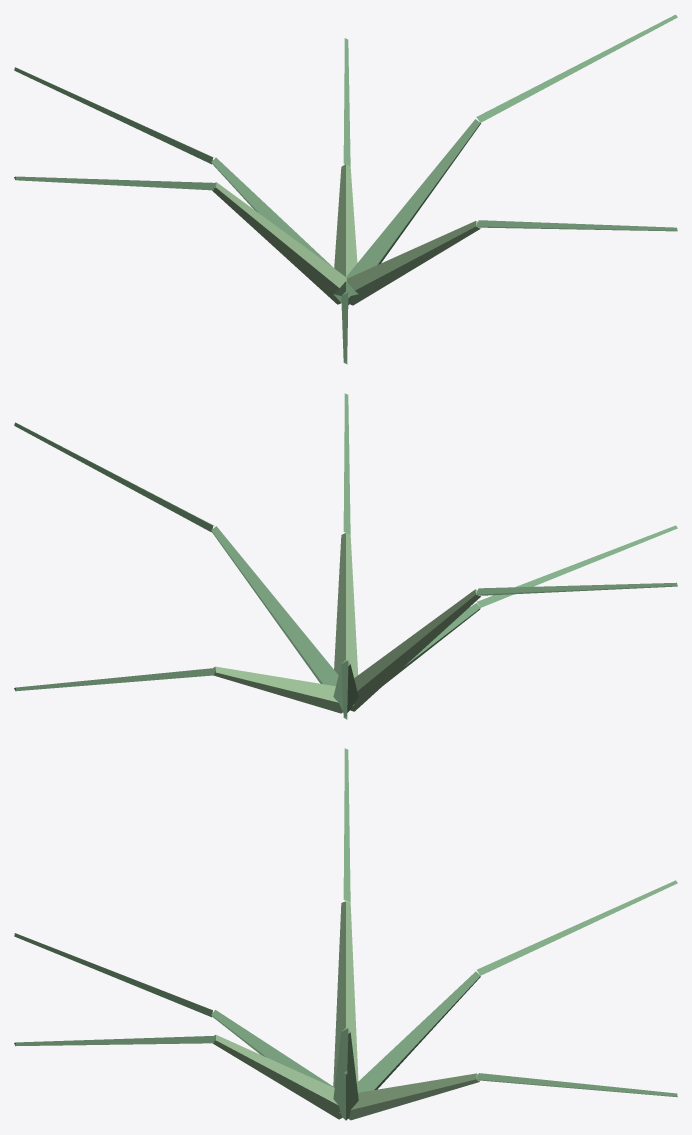
The model's file is fern_v29.glb.
The picture shows the model from 3 angles, top to bottom: view 1: azimuth 30°, elevation 25°; view 2: azimuth 150°, elevation 25°; view 3: azimuth 270°, elevation 25°; orthographic projection.
Parts seen in each view (by area): view 1: lod0; view 2: lod0; view 3: lod0.
Part boxes in pixels (x1,y1,x2,y2): lod0: (14, 14, 677, 364); lod0: (14, 393, 677, 719); lod0: (14, 748, 677, 1120).
Size of what is drawn, in the model's own units: 1.96 by 0.5939 by 1.7.
